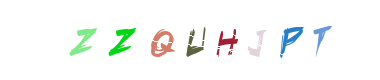H: (154, 0, 234, 80)
J: (182, 0, 262, 80)
P: (187, 0, 267, 80)
Q: (131, 0, 211, 80)
T: (260, 0, 340, 80)
U: (149, 0, 229, 80)
Z: (48, 0, 128, 80), (82, 0, 162, 80)
